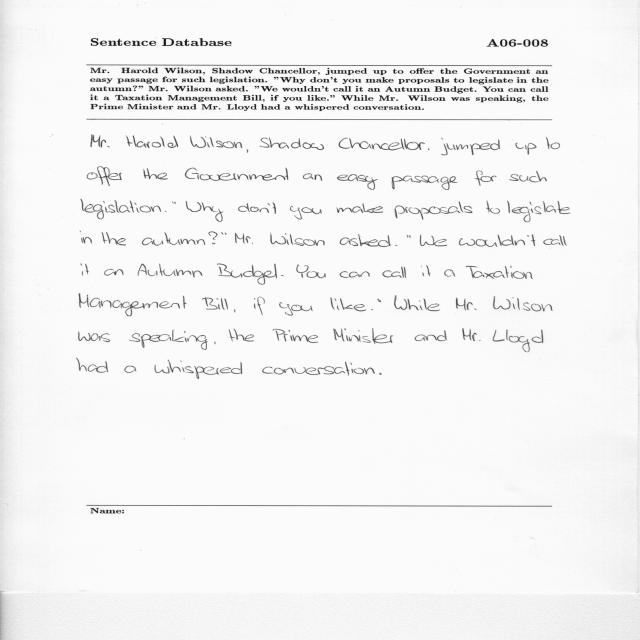word: (79, 294, 186, 317), (155, 359, 243, 379), (81, 199, 161, 219), (262, 362, 375, 376), (129, 330, 208, 350), (395, 201, 473, 220), (185, 168, 288, 181), (507, 201, 570, 222), (217, 264, 277, 285), (493, 330, 543, 353), (338, 138, 425, 150), (442, 138, 501, 155), (459, 234, 535, 247), (493, 296, 553, 312), (333, 328, 393, 344), (392, 176, 458, 190), (142, 232, 205, 246), (466, 266, 533, 279), (138, 264, 203, 277), (186, 201, 224, 222), (260, 138, 325, 150), (394, 296, 440, 312), (271, 233, 325, 246), (190, 136, 242, 149), (339, 234, 391, 247), (87, 167, 122, 186), (337, 174, 378, 190), (273, 329, 318, 343), (133, 136, 178, 149), (91, 135, 133, 148), (77, 358, 109, 373), (336, 203, 383, 213), (331, 298, 367, 311), (238, 202, 276, 214), (279, 303, 313, 316), (509, 171, 547, 182), (290, 206, 322, 219), (235, 233, 271, 244), (296, 265, 326, 278), (415, 331, 447, 342), (202, 297, 228, 310), (475, 170, 496, 186), (101, 232, 126, 245), (229, 329, 254, 342), (78, 332, 110, 342), (143, 168, 168, 180), (420, 235, 447, 246), (456, 298, 477, 311), (543, 235, 567, 246), (382, 267, 406, 278), (516, 143, 537, 155), (462, 328, 481, 341), (340, 271, 370, 278), (254, 297, 265, 316), (486, 201, 500, 214), (546, 137, 560, 149), (303, 173, 322, 181), (208, 232, 218, 245), (104, 269, 123, 275), (421, 266, 431, 277), (81, 264, 89, 276), (444, 269, 455, 277), (124, 366, 136, 373), (81, 237, 92, 244), (222, 232, 227, 235), (172, 201, 176, 204), (407, 235, 411, 238), (377, 299, 381, 302), (379, 373, 382, 375), (247, 149, 248, 153), (428, 148, 430, 150), (234, 309, 235, 313), (214, 342, 216, 344), (395, 245, 398, 246), (281, 275, 284, 276), (165, 211, 167, 212), (371, 309, 373, 310)
